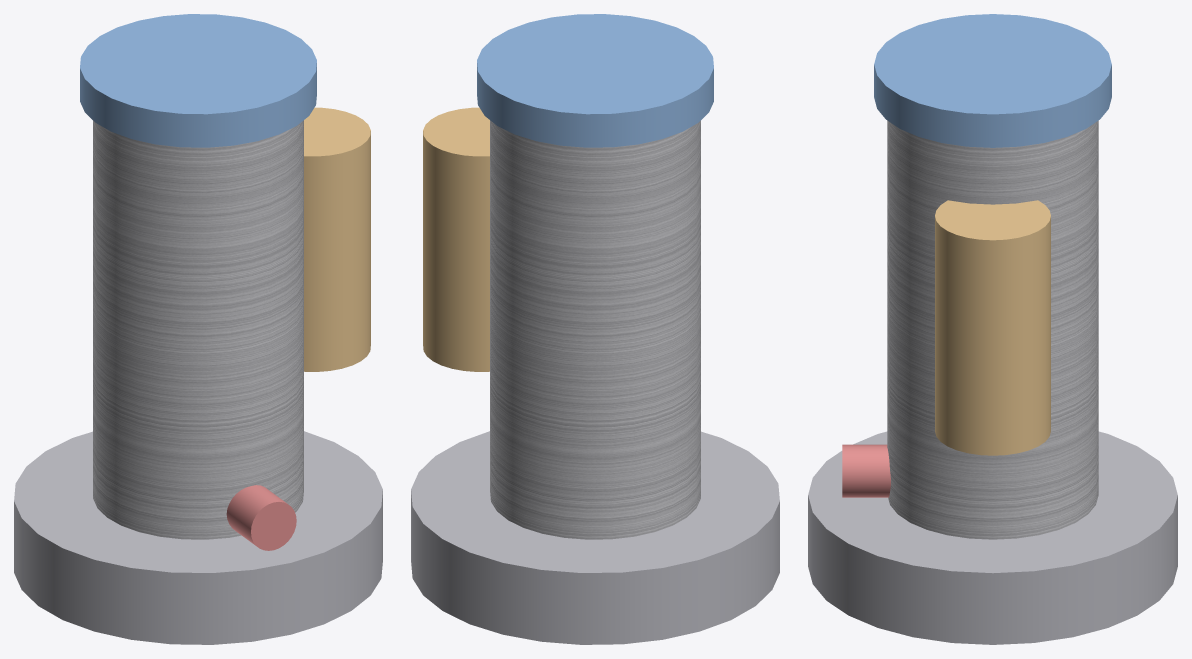
File: unitB.glb
3 renders of one model, left to right at view 1: azimuth 30°, elevation 25°; view 2: azimuth 150°, elevation 25°; view 3: azimuth 270°, elevation 25°, orthographic.
Parts seen in each view (by area): view 1: tower, base, top_cover, scrubber, drain_valve; view 2: tower, base, top_cover, scrubber; view 3: tower, base, scrubber, top_cover, drain_valve.
Boxes of the visible parts, x1=… form: tower: x1=93, y1=120, x2=303, y2=539; base: x1=14, y1=431, x2=382, y2=644; top_cover: x1=80, y1=14, x2=316, y2=147; scrubber: x1=304, y1=107, x2=370, y2=371; drain_valve: x1=226, y1=485, x2=296, y2=550; tower: x1=490, y1=120, x2=700, y2=539; base: x1=411, y1=431, x2=779, y2=644; top_cover: x1=477, y1=14, x2=713, y2=147; scrubber: x1=423, y1=107, x2=489, y2=371; tower: x1=887, y1=120, x2=1098, y2=539; base: x1=808, y1=431, x2=1177, y2=644; scrubber: x1=935, y1=200, x2=1050, y2=455; top_cover: x1=874, y1=14, x2=1111, y2=147; drain_valve: x1=842, y1=444, x2=890, y2=497.
Size of the model in its own units: 1.42 by 2.1 by 1.4.
5 materials, 1 textured.
